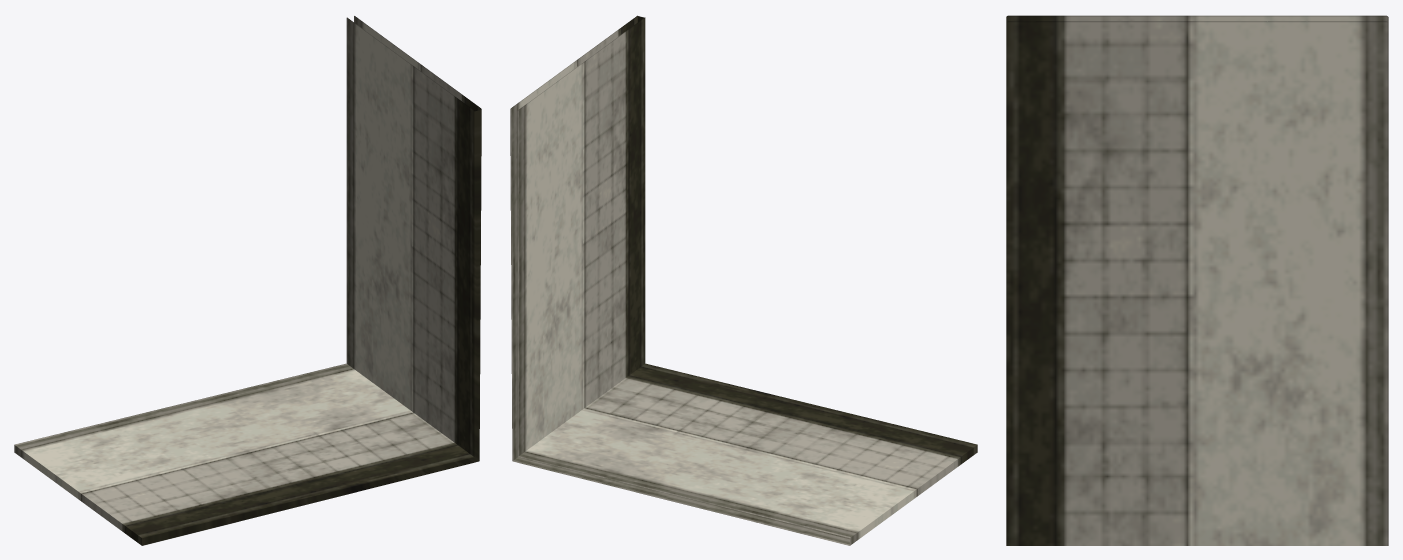
Rendered from SM_EC_House_Wall_9x3_Bend_3.fbx.
3 views of the same model, side by side, from view 1: azimuth 30°, elevation 25°; view 2: azimuth 150°, elevation 25°; view 3: azimuth 270°, elevation 25° (orthographic). The views are drawn at different scales.
Visible parts, largest first — view 1: SM_EC_House_Wall_9x3_Bend_3; view 2: SM_EC_House_Wall_9x3_Bend_3; view 3: SM_EC_House_Wall_9x3_Bend_3.
Boxes of the visible parts, x1=… form: SM_EC_House_Wall_9x3_Bend_3: x1=14, y1=16, x2=481, y2=545; SM_EC_House_Wall_9x3_Bend_3: x1=510, y1=15, x2=977, y2=545; SM_EC_House_Wall_9x3_Bend_3: x1=1006, y1=15, x2=1388, y2=545.
Bounding box in the file's own units: 4.6 × 3 × 4.6.
